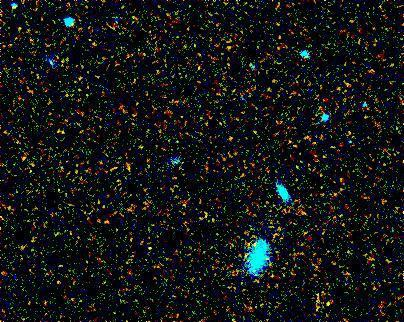star: (250, 243, 280, 273)
